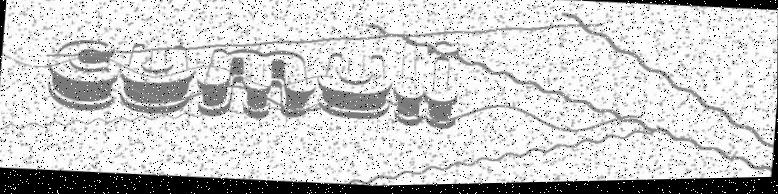c: (43, 35, 121, 115)
i: (423, 40, 463, 133)
l: (390, 38, 428, 130)
m: (194, 44, 320, 125)
u: (117, 39, 198, 118), (314, 49, 396, 125)
